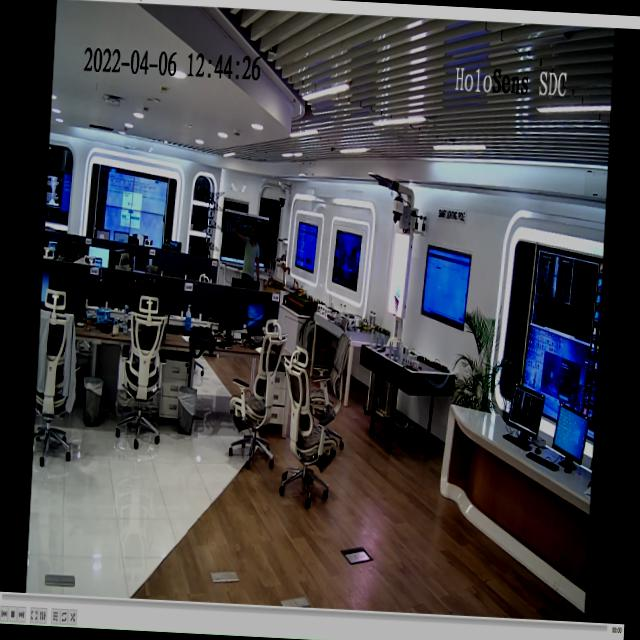long weapon: (225, 210, 244, 237)
